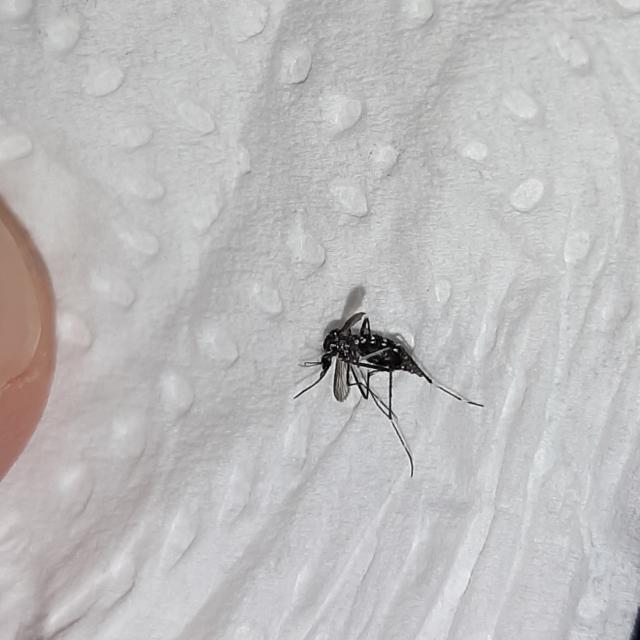albopictus: (283, 282, 477, 482)
